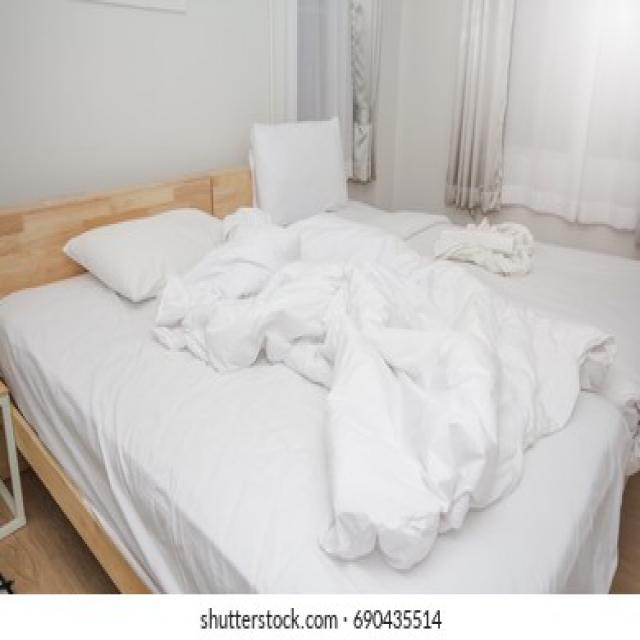bed: (0, 114, 640, 596)
